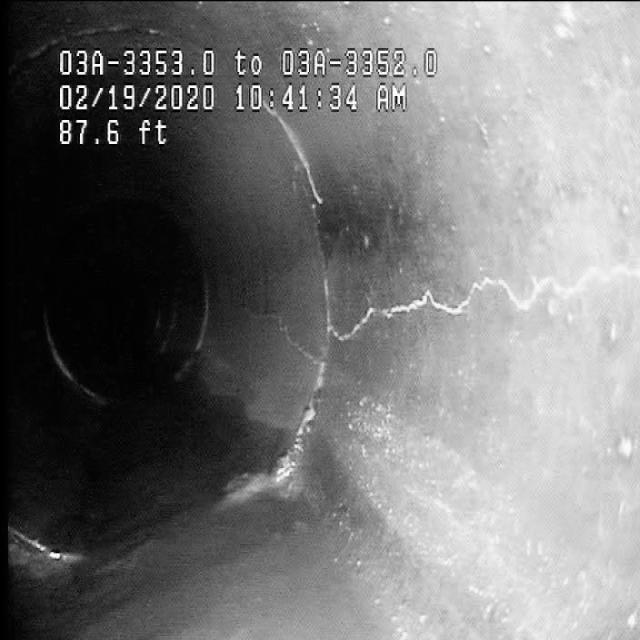Crack: (328, 238, 598, 354)
